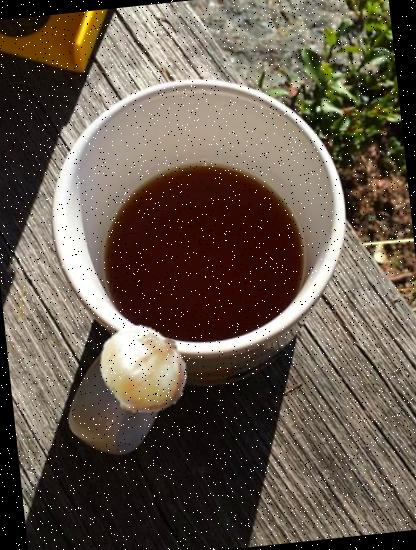Onion: (90, 317, 194, 421)
